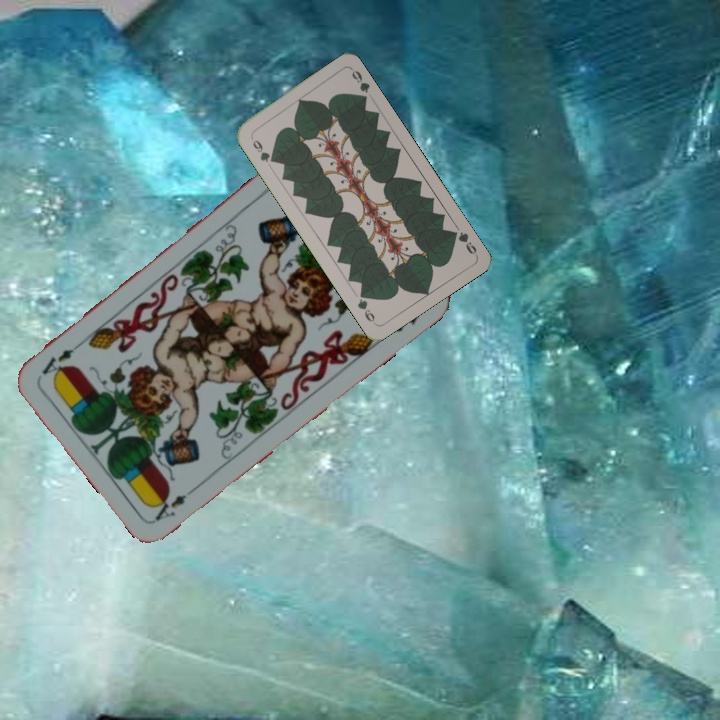EA: (149, 481, 201, 524)
G9: (446, 226, 480, 258), (247, 132, 278, 165)
